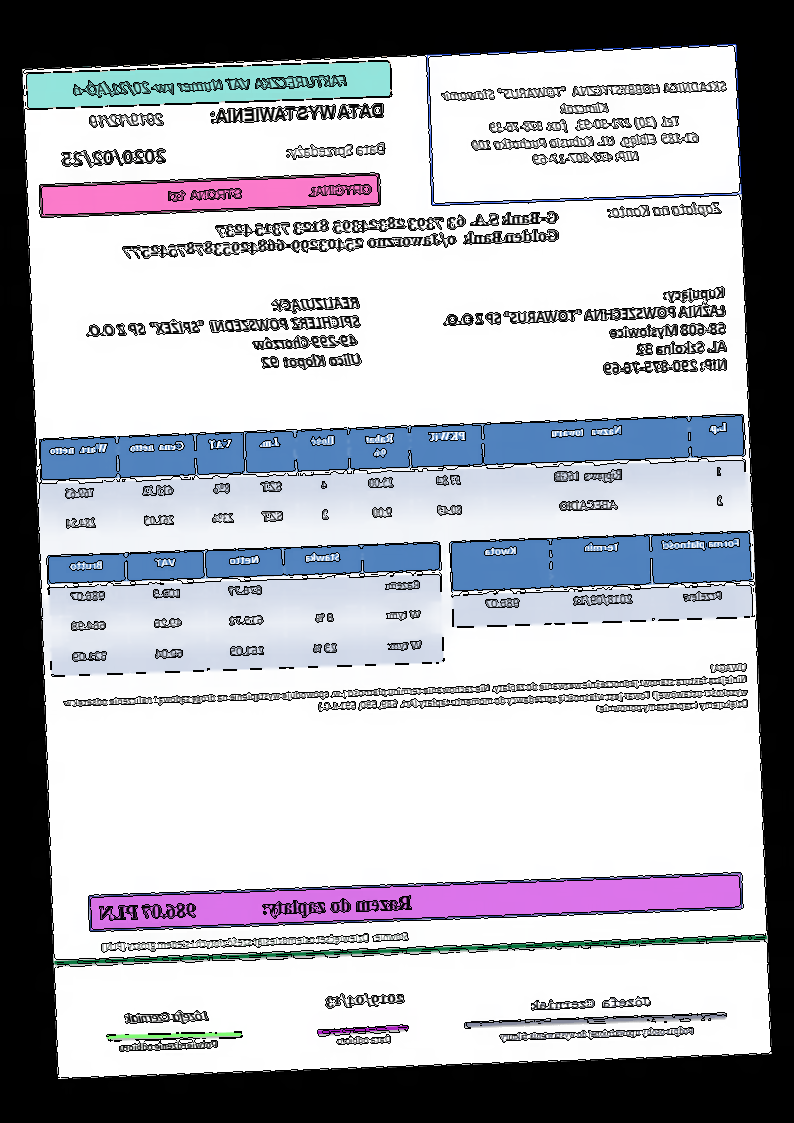Table: (40, 411, 749, 545), (45, 541, 445, 679), (450, 530, 755, 630)
TextBox: (61, 659, 751, 736), (441, 282, 730, 382), (437, 76, 734, 171), (119, 206, 562, 264), (83, 292, 364, 379), (98, 890, 415, 925), (68, 67, 352, 102), (98, 927, 411, 956), (162, 178, 375, 205), (207, 99, 387, 127), (498, 1023, 696, 1044), (59, 143, 169, 169), (284, 137, 387, 162), (607, 198, 723, 220), (529, 993, 654, 1012), (85, 107, 168, 132), (122, 1005, 213, 1027), (116, 1036, 221, 1055), (325, 988, 408, 1012), (334, 1031, 395, 1047)
